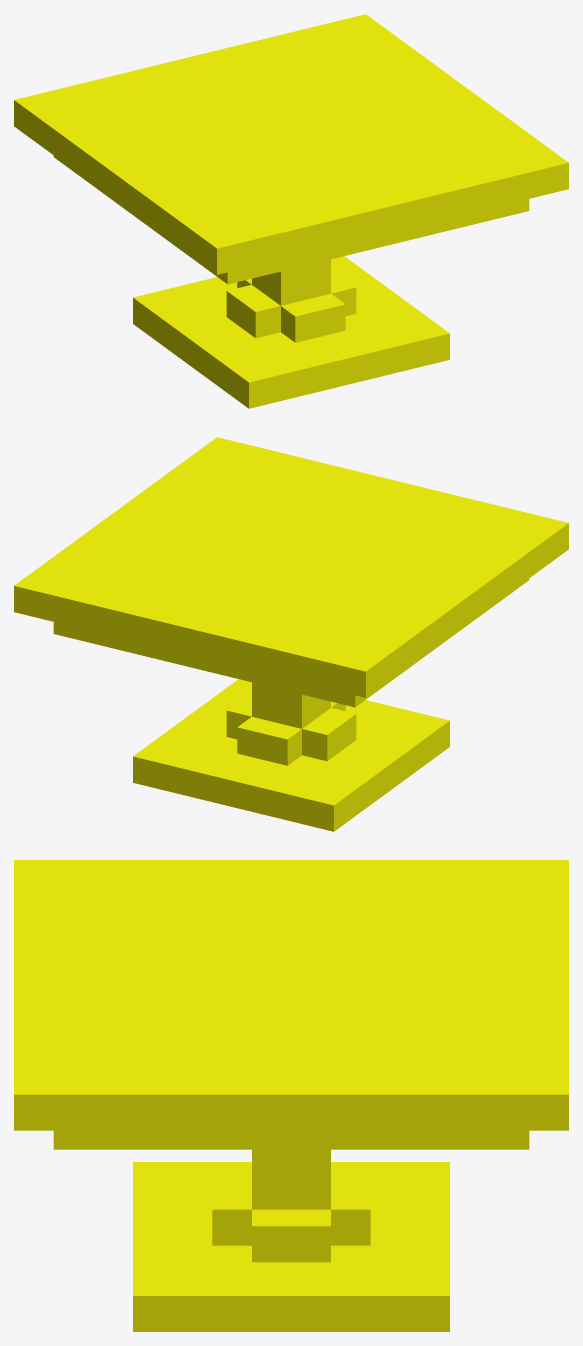
Rendered from voxel-knights-table.glb.
The picture shows the model from 3 angles, top to bottom: view 1: azimuth 30°, elevation 25°; view 2: azimuth 150°, elevation 25°; view 3: azimuth 270°, elevation 25°; orthographic projection. The views are drawn at different scales.
Visible parts, largest first — view 1: ObjObject.024; view 2: ObjObject.024; view 3: ObjObject.024.
Part boxes in pixels (x1=…): ObjObject.024: x1=14, y1=14, x2=568, y2=408; ObjObject.024: x1=14, y1=437, x2=568, y2=831; ObjObject.024: x1=14, y1=860, x2=568, y2=1331.
Size of the model in its own units: 1.4 by 0.8001 by 1.4.
